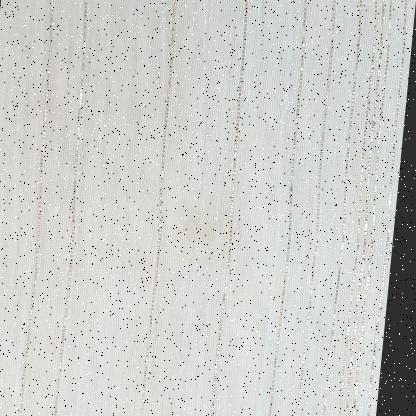spot: (185, 213, 218, 246)
